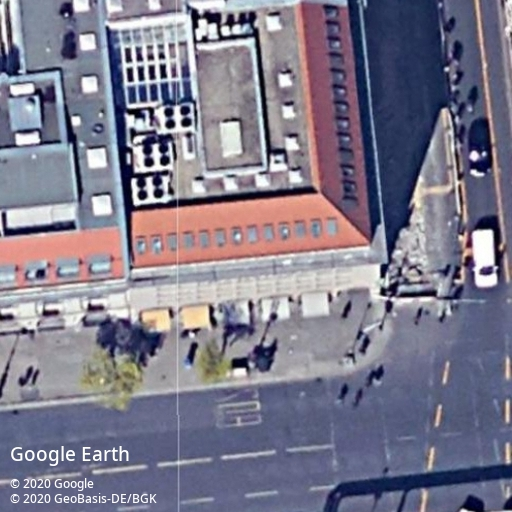Chiller: (132, 140, 175, 172), (130, 174, 171, 206), (157, 101, 195, 134)
